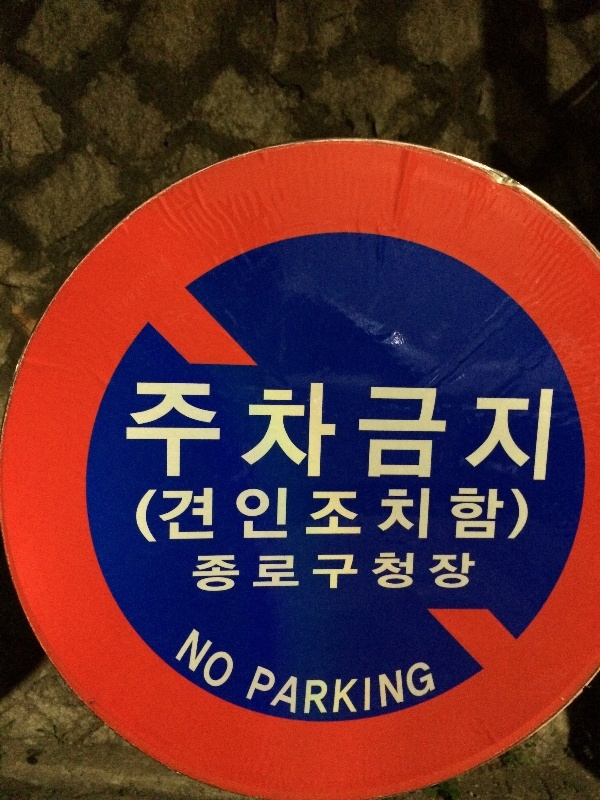text: (129, 366, 144, 498), (145, 366, 160, 498), (161, 366, 176, 498), (177, 366, 192, 498), (193, 366, 208, 498), (209, 366, 224, 498), (225, 366, 240, 498), (241, 366, 256, 498), (257, 366, 272, 498), (273, 366, 288, 498), (289, 366, 304, 498), (305, 366, 320, 498), (321, 366, 336, 498), (337, 366, 352, 498), (353, 366, 368, 498), (369, 366, 384, 498), (385, 366, 400, 498), (401, 366, 416, 498), (417, 366, 432, 498), (433, 366, 448, 498), (449, 366, 464, 498), (465, 366, 480, 498), (481, 366, 496, 498), (497, 366, 512, 498), (513, 366, 528, 498), (529, 366, 544, 498), (545, 366, 559, 498), (225, 609, 241, 710), (193, 609, 208, 710), (209, 609, 224, 710), (257, 648, 272, 727), (273, 648, 288, 727), (289, 648, 304, 727), (305, 648, 320, 727), (321, 648, 336, 727), (337, 648, 352, 727), (353, 648, 368, 727), (369, 648, 384, 727), (385, 648, 400, 727), (401, 648, 416, 727), (417, 648, 432, 727), (129, 478, 144, 556), (145, 478, 160, 556), (161, 478, 176, 556), (177, 478, 192, 556), (193, 478, 208, 556), (209, 478, 224, 556), (225, 478, 240, 556), (241, 478, 256, 556), (257, 478, 272, 556), (273, 478, 288, 556), (289, 478, 304, 556), (305, 478, 320, 556), (321, 478, 336, 556), (337, 478, 352, 556), (353, 478, 368, 556), (369, 478, 384, 556), (385, 478, 400, 556), (401, 478, 416, 556), (417, 478, 432, 556), (433, 478, 448, 556), (449, 478, 464, 556), (465, 478, 480, 556), (481, 478, 496, 556), (497, 478, 512, 556), (513, 478, 528, 556), (193, 549, 208, 602), (209, 549, 224, 602), (225, 549, 240, 602), (241, 549, 256, 602), (257, 549, 272, 602), (273, 549, 288, 602), (289, 549, 304, 602), (305, 549, 320, 602), (321, 549, 336, 602), (337, 549, 352, 602), (353, 549, 368, 602), (369, 549, 384, 602), (385, 549, 400, 602), (401, 549, 416, 602), (417, 549, 432, 602), (433, 549, 448, 602), (449, 549, 464, 602), (433, 648, 443, 727), (465, 549, 479, 602), (188, 609, 192, 710), (529, 478, 534, 556), (185, 549, 192, 602), (126, 366, 128, 498), (254, 648, 256, 727), (127, 478, 128, 556)
